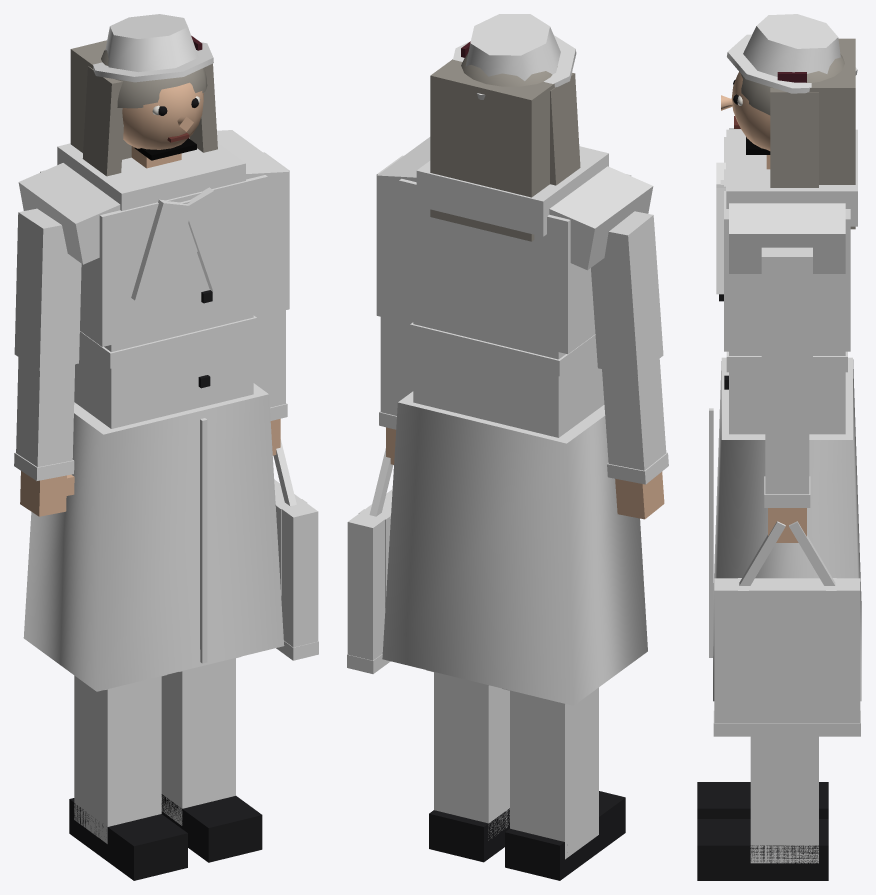
The model's file is NPC_coat.fbx.
3 views of the same model, side by side, from view 1: azimuth 30°, elevation 25°; view 2: azimuth 150°, elevation 25°; view 3: azimuth 270°, elevation 25° (orthographic).
Parts seen in each view (by area): view 1: Body_Cloth_CoatBurgundy, Body_Cloth_Pants, Body_Cloth_CoatTrim, Arm_R_Cloth_CoatBurgundy, Body_Shoe, Head_Hair, Head_Cloth_1f1c22, Prop_ToteBag_Cloth_ToteCanvas, Arm_L_Cloth_CoatBurgundy, Head_Skin, Arm_R_Skin, Prop_ToteBag_Cloth_ToteStrap (+1 smaller); view 2: Body_Cloth_CoatBurgundy, Body_Cloth_Pants, Head_Hair, Arm_R_Cloth_CoatBurgundy, Body_Cloth_CoatTrim, Body_Shoe, Head_Cloth_1f1c22, Prop_ToteBag_Cloth_ToteCanvas, Arm_L_Cloth_CoatBurgundy, Arm_R_Skin, Prop_ToteBag_Cloth_ToteStrap, Arm_R_Cloth_CoatTrim; view 3: Body_Cloth_CoatBurgundy, Prop_ToteBag_Cloth_ToteCanvas, Arm_L_Cloth_CoatBurgundy, Head_Hair, Body_Cloth_Pants, Body_Shoe, Body_Cloth_CoatTrim, Head_Cloth_1f1c22, Prop_ToteBag_Cloth_ToteStrap, Head_Skin, Arm_L_Skin, Arm_L_Cloth_CoatTrim.
Part boxes in pixels (bbox=[...]): Body_Cloth_CoatBurgundy: bbox=[18, 130, 289, 691]; Body_Cloth_Pants: bbox=[74, 656, 240, 843]; Body_Cloth_CoatTrim: bbox=[57, 143, 256, 663]; Arm_R_Cloth_CoatBurgundy: bbox=[14, 208, 81, 467]; Body_Shoe: bbox=[69, 290, 262, 880]; Head_Hair: bbox=[70, 40, 217, 176]; Head_Cloth_1f1c22: bbox=[93, 14, 213, 82]; Prop_ToteBag_Cloth_ToteCanvas: bbox=[274, 479, 318, 647]; Arm_L_Cloth_CoatBurgundy: bbox=[253, 152, 289, 407]; Head_Skin: bbox=[122, 82, 203, 149]; Arm_R_Skin: bbox=[20, 471, 74, 516]; Prop_ToteBag_Cloth_ToteStrap: bbox=[273, 439, 318, 660]; Body_Cloth_CoatBurgundy: bbox=[377, 137, 653, 705]; Body_Cloth_Pants: bbox=[426, 670, 598, 859]; Head_Hair: bbox=[430, 53, 580, 241]; Arm_R_Cloth_CoatBurgundy: bbox=[591, 211, 666, 470]; Body_Cloth_CoatTrim: bbox=[410, 146, 608, 376]; Body_Shoe: bbox=[429, 791, 625, 880]; Head_Cloth_1f1c22: bbox=[453, 14, 576, 99]; Prop_ToteBag_Cloth_ToteCanvas: bbox=[347, 489, 392, 660]; Arm_L_Cloth_CoatBurgundy: bbox=[376, 155, 413, 415]; Arm_R_Skin: bbox=[615, 471, 664, 519]; Prop_ToteBag_Cloth_ToteStrap: bbox=[347, 448, 393, 673]; Arm_R_Cloth_CoatTrim: bbox=[607, 452, 668, 484]; Body_Cloth_CoatBurgundy: bbox=[713, 128, 861, 701]; Prop_ToteBag_Cloth_ToteCanvas: bbox=[714, 578, 860, 722]; Arm_L_Cloth_CoatBurgundy: bbox=[761, 247, 812, 494]; Head_Hair: bbox=[740, 38, 855, 229]; Body_Cloth_Pants: bbox=[750, 736, 818, 863]; Body_Shoe: bbox=[697, 294, 828, 880]; Body_Cloth_CoatTrim: bbox=[709, 129, 857, 657]; Head_Cloth_1f1c22: bbox=[727, 14, 857, 93]; Prop_ToteBag_Cloth_ToteStrap: bbox=[713, 521, 860, 736]; Head_Skin: bbox=[721, 72, 770, 150]; Arm_L_Skin: bbox=[768, 508, 806, 542]; Arm_L_Cloth_CoatTrim: bbox=[764, 476, 810, 507].
Size of the model in its own units: 0.6354 by 1.86 by 0.3377.
